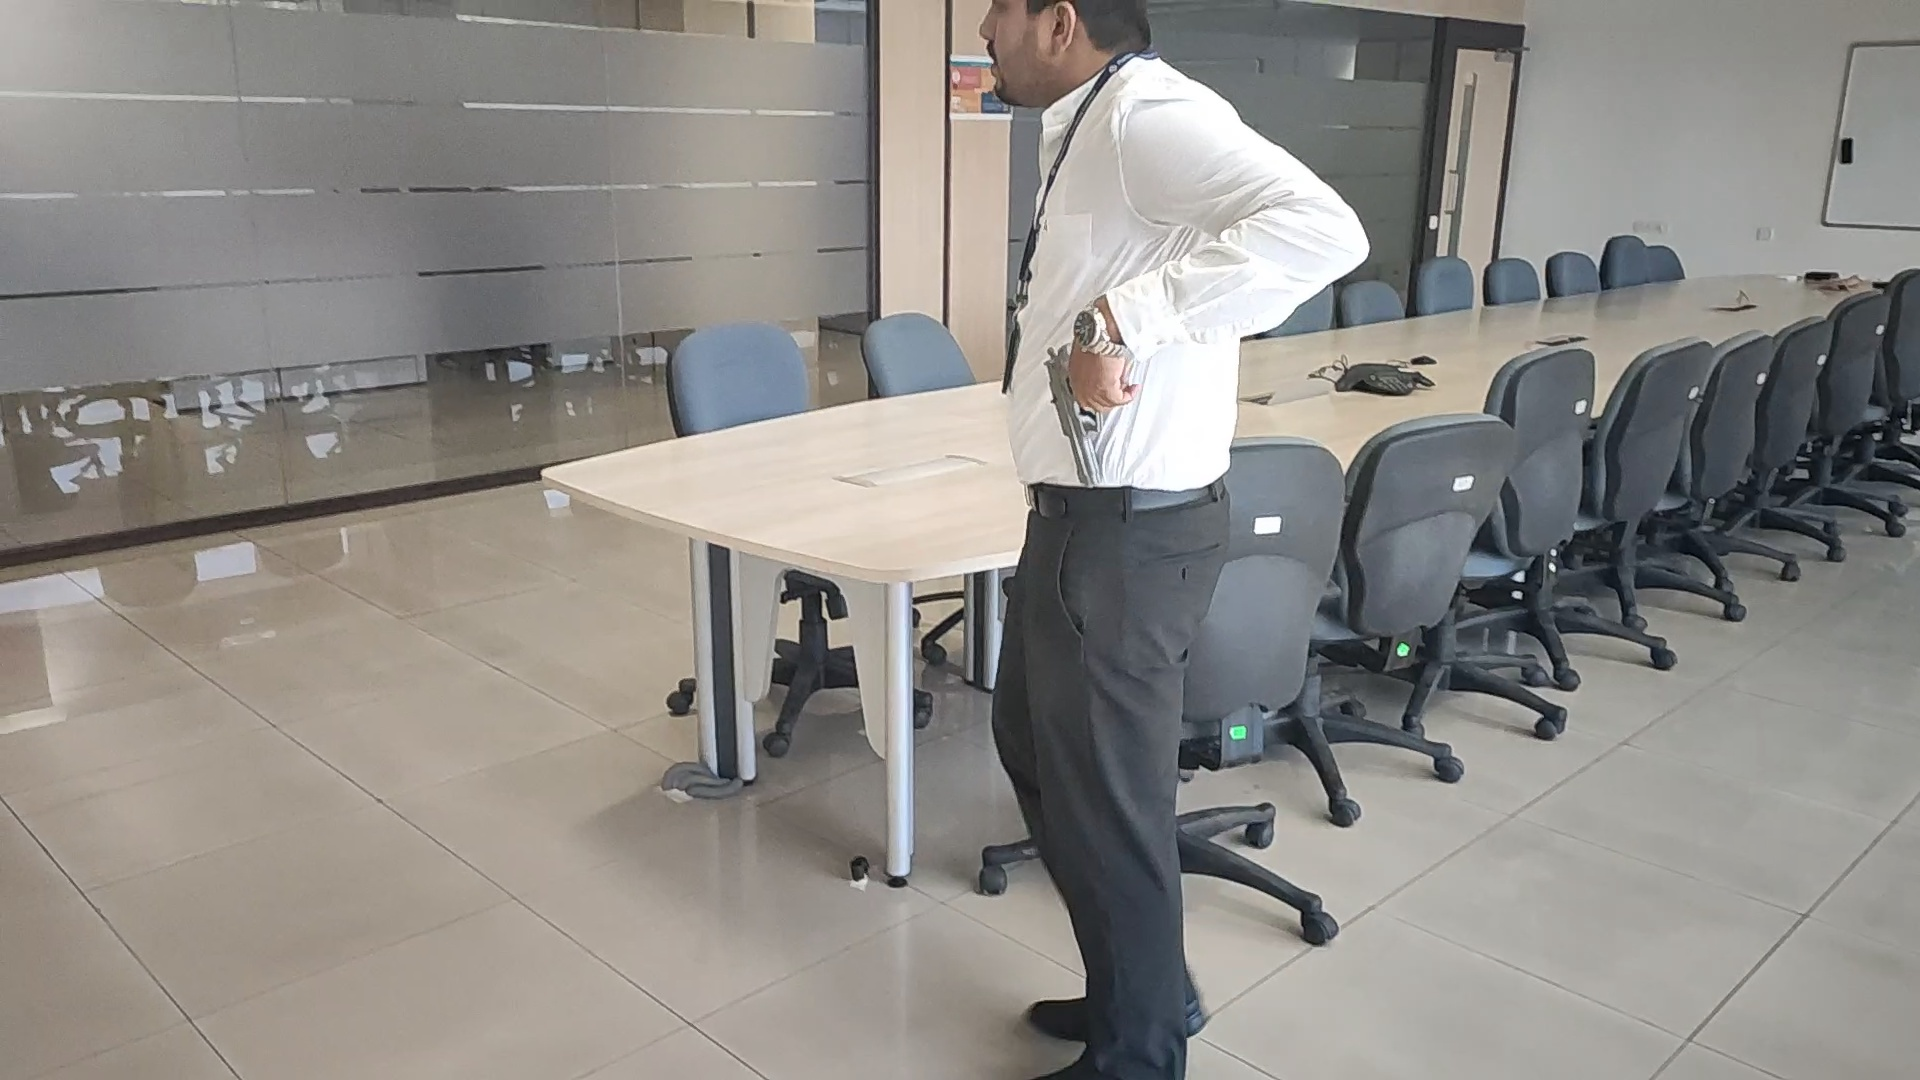gun: (1046, 352, 1098, 484)
